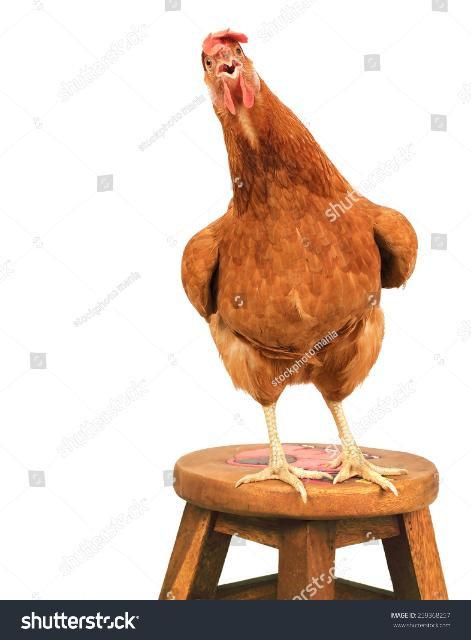Chicken: (175, 27, 420, 498)
